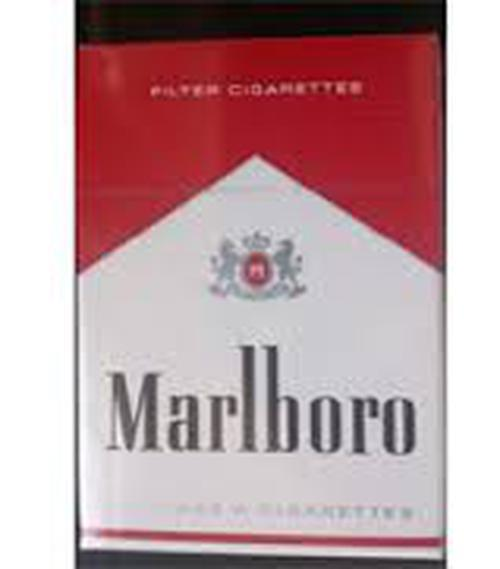marlboro: (77, 48, 440, 557)
